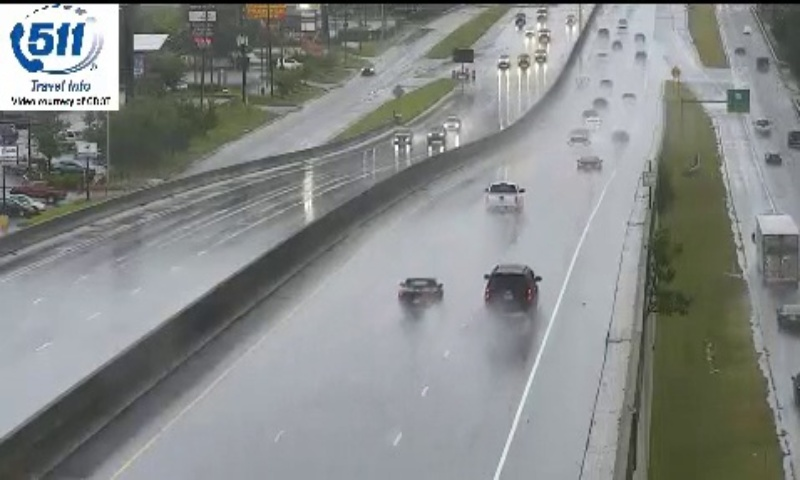car: (483, 264, 537, 312), (396, 278, 443, 306), (485, 184, 523, 211)
